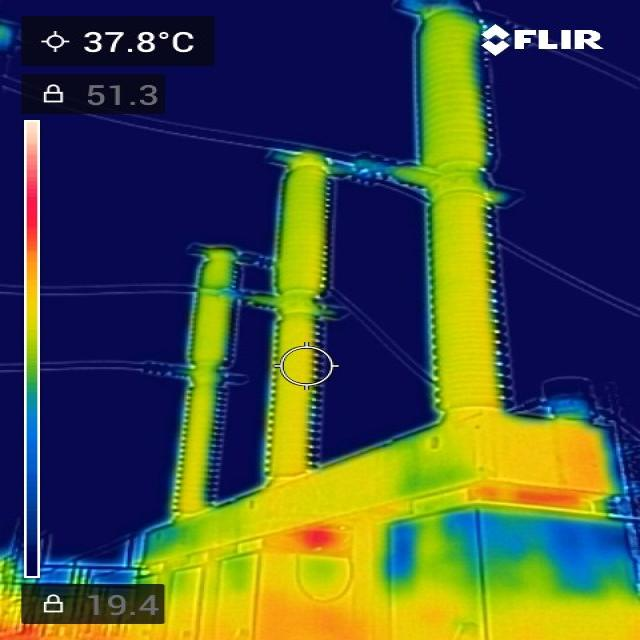Zona_Atenco: (471, 481, 584, 511), (289, 522, 347, 556)
